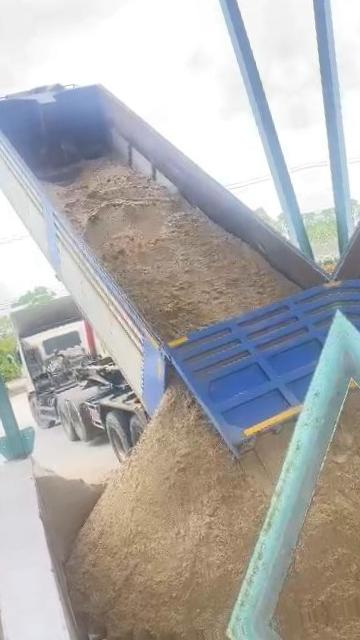sand: (67, 386, 291, 640), (46, 159, 299, 339), (278, 389, 360, 622), (35, 464, 104, 561)
